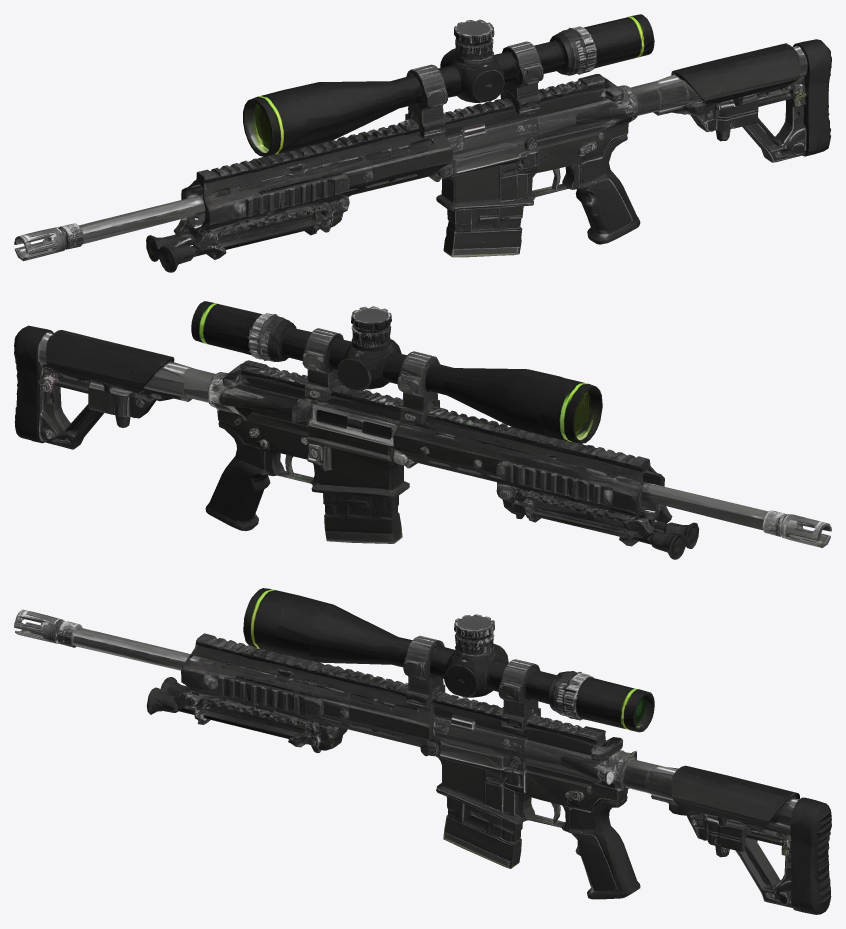
Rendered from gun_sniper.glb.
3 views of the same model, one above another, from view 1: azimuth 30°, elevation 25°; view 2: azimuth 150°, elevation 25°; view 3: azimuth 330°, elevation 25° (orthographic).
Visible parts, largest first — view 1: Mesh_0; view 2: Mesh_0; view 3: Mesh_0.
Boxes of the visible parts, <box> form: Mesh_0: <box>14,14,831,272</box>; Mesh_0: <box>14,301,831,559</box>; Mesh_0: <box>14,588,831,914</box>.
Bounding box in the file's own units: 1.9 × 0.545 × 0.1489.
Materials: 1 (1 with a texture image).
